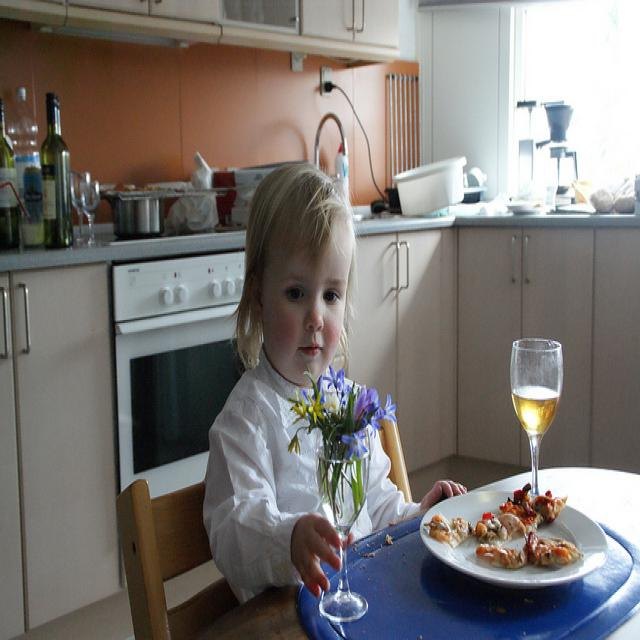chair: (112, 404, 414, 631)
dining table: (476, 464, 640, 548)
